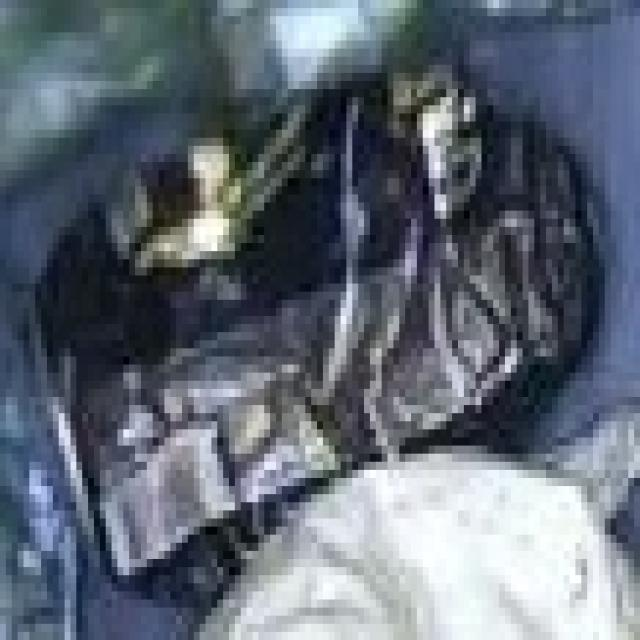can: (37, 7, 638, 611)
